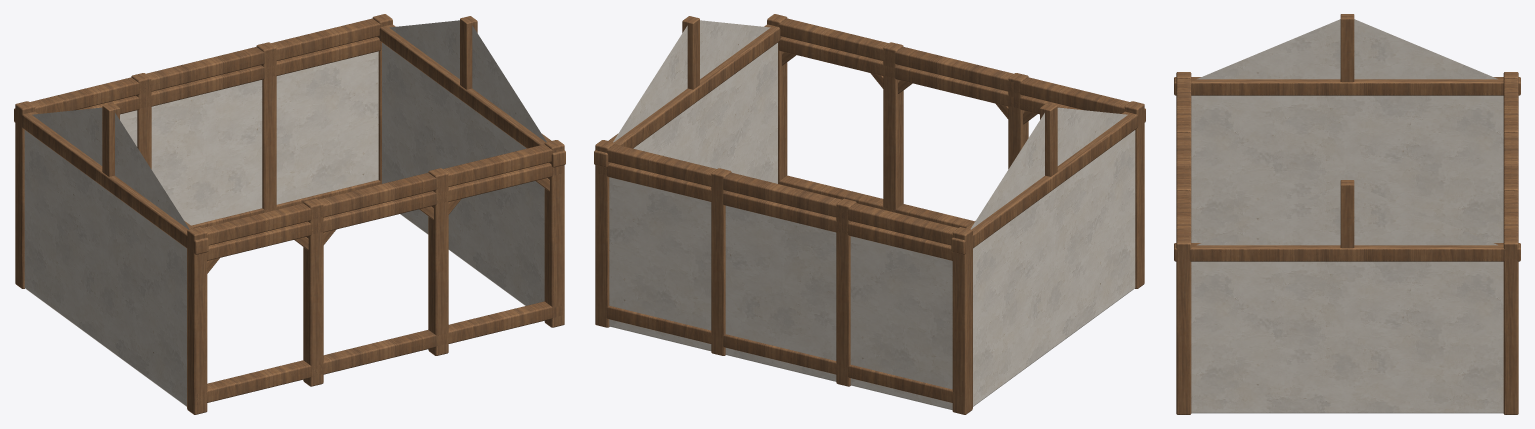
Rendered from tea-walls-v1.glb.
3 views of the same model, side by side, from view 1: azimuth 30°, elevation 25°; view 2: azimuth 150°, elevation 25°; view 3: azimuth 270°, elevation 25° (orthographic). The views are drawn at different scales.
Visible parts, largest first — view 1: walls; view 2: walls; view 3: walls.
Boxes of the visible parts, x1,y1,x2,y2 form: walls: (14,14,565,414); walls: (594,14,1145,414); walls: (1174,14,1520,414).
Size of the model in its own units: 6.23 by 3.88 by 5.3.
2 materials, 2 textured.
